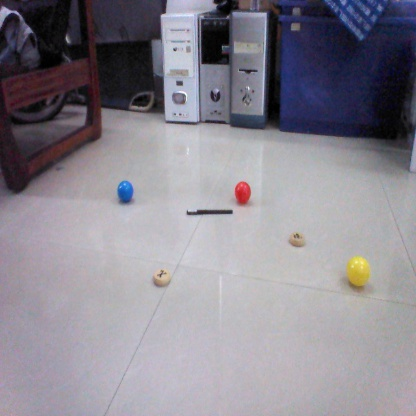ball: (344, 257, 369, 286), (116, 181, 137, 200), (234, 182, 252, 203)
chess: (154, 267, 170, 285), (291, 233, 308, 245)
pen: (186, 207, 236, 217)
